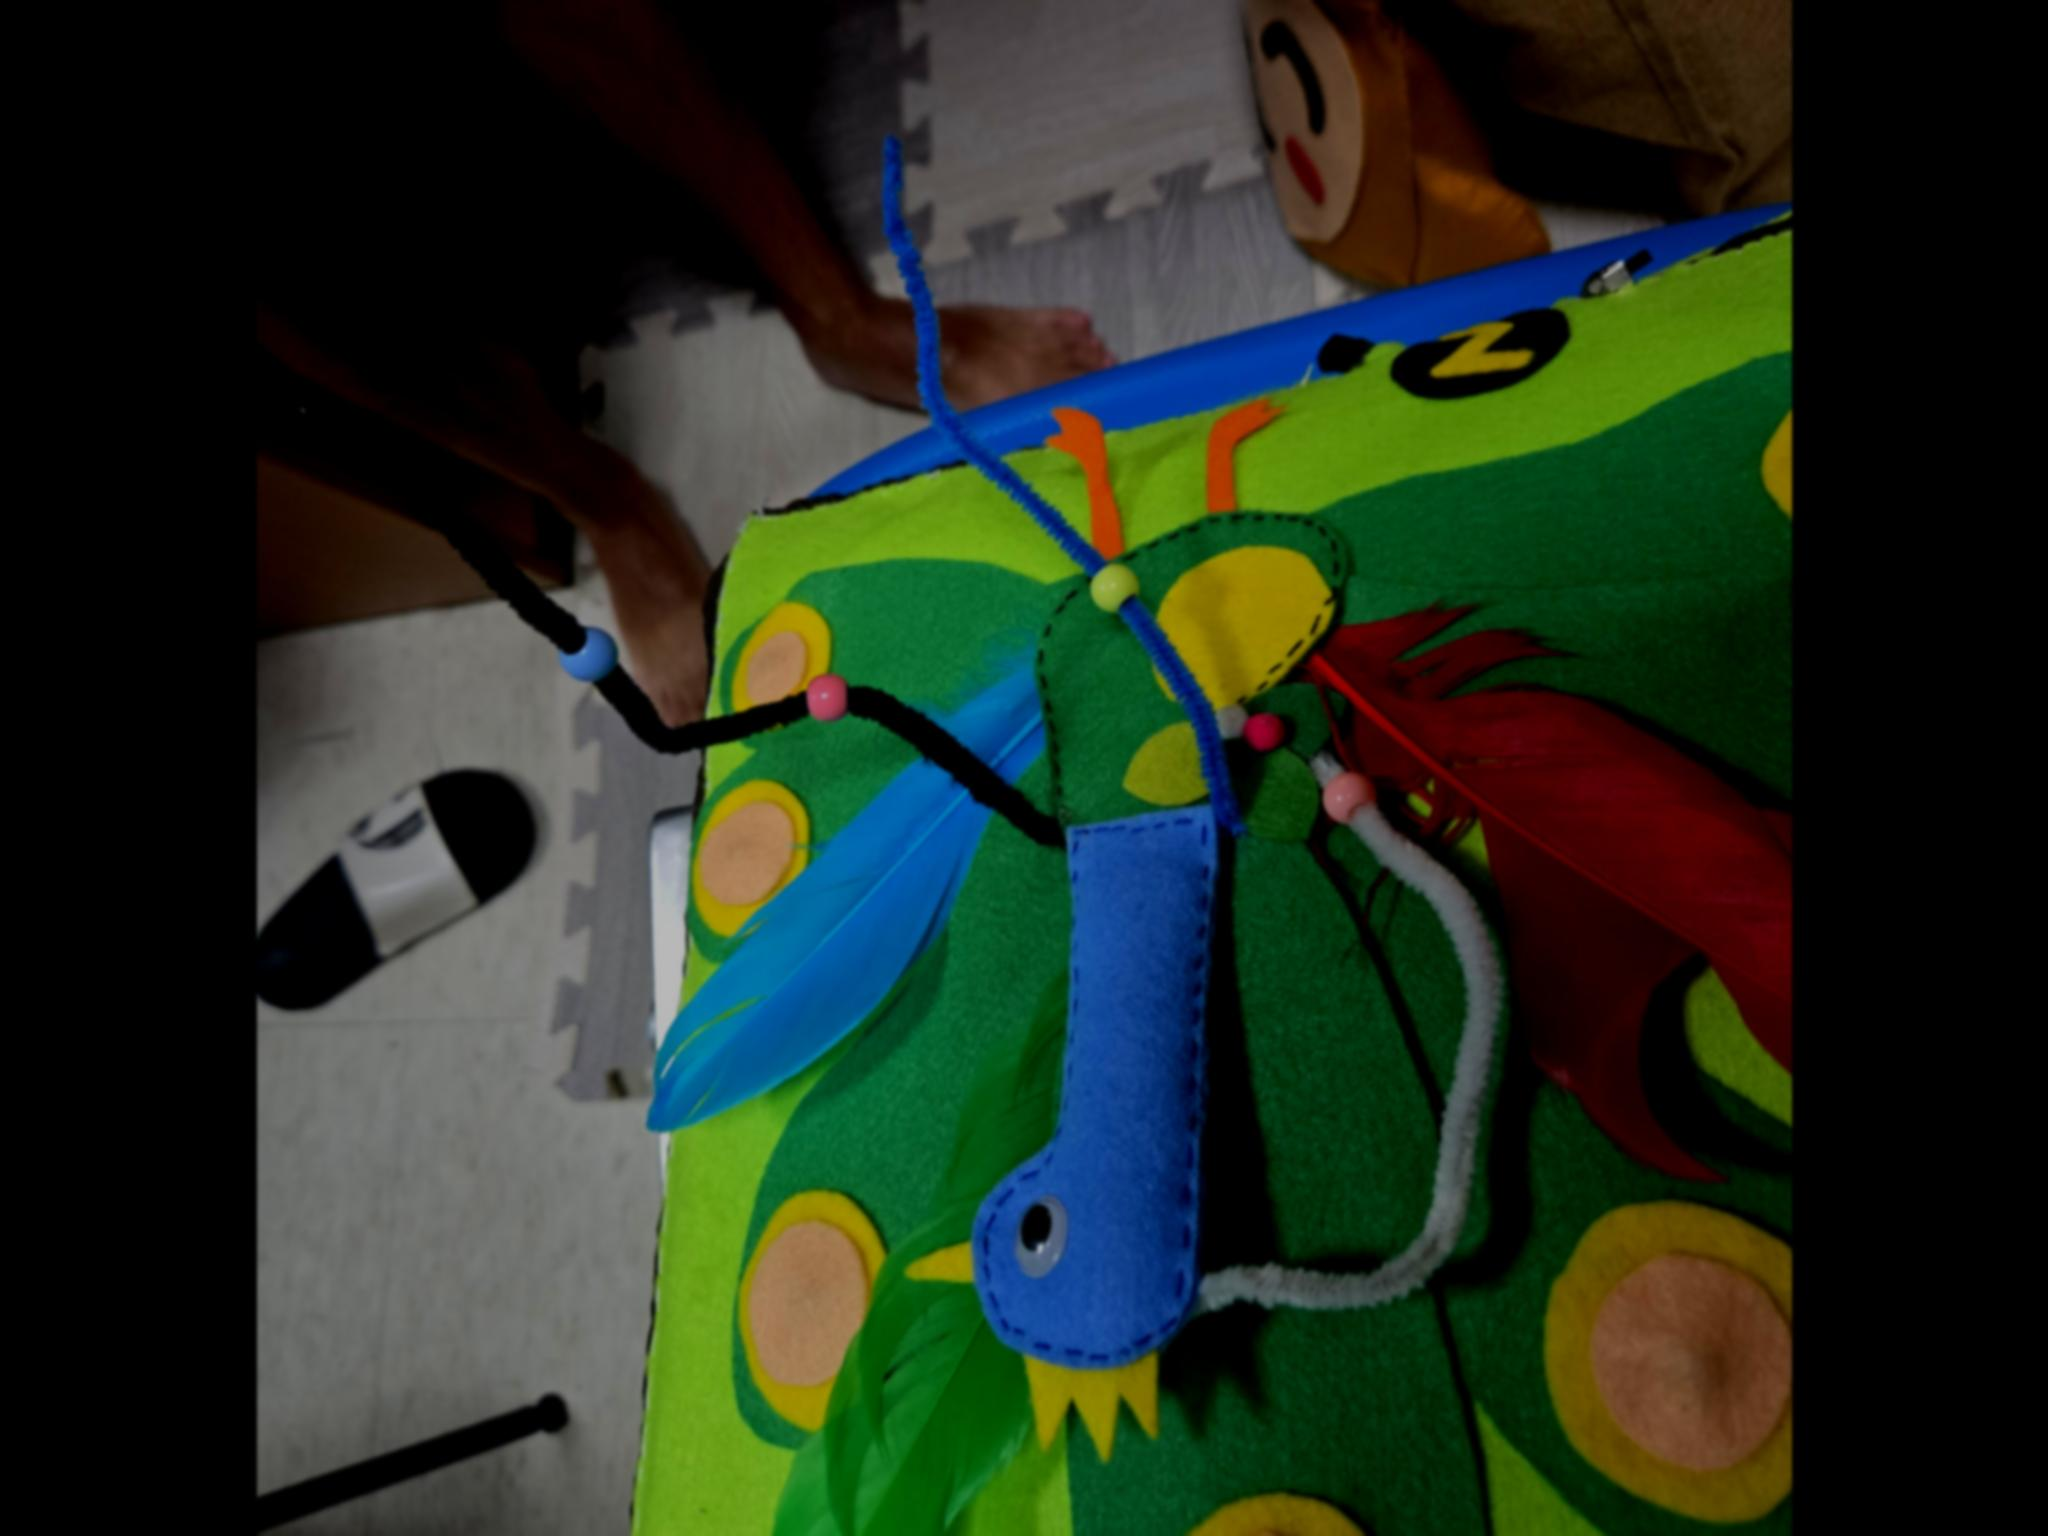bead: (795, 665, 866, 734), (550, 623, 626, 687), (1314, 758, 1377, 829), (1080, 553, 1143, 621)
